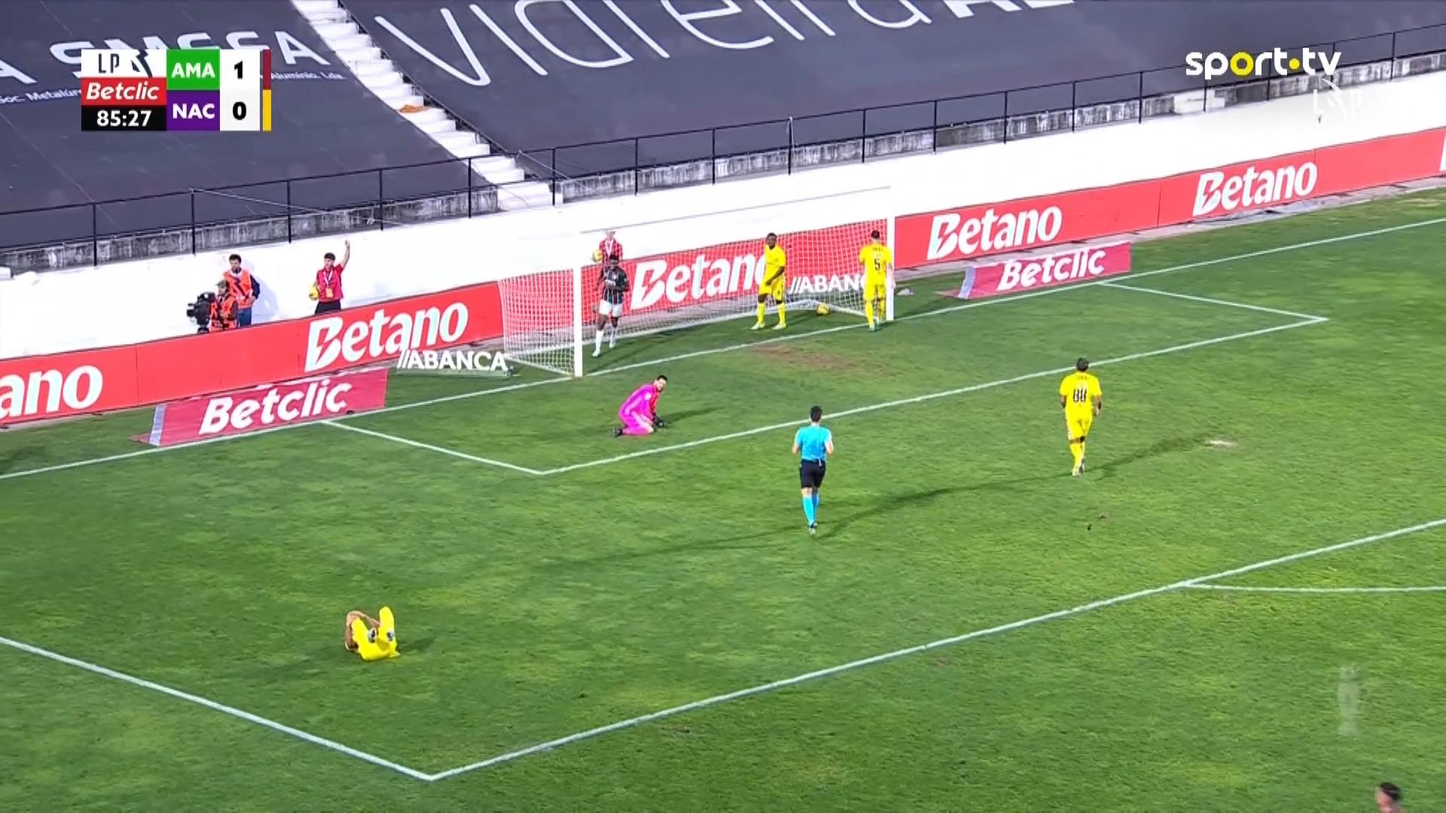ball: (816, 303, 829, 315), (591, 250, 602, 262)
goalkeeper: (612, 373, 667, 437), (343, 604, 400, 662)
player: (1057, 356, 1102, 477), (590, 254, 630, 358), (856, 229, 895, 332), (749, 232, 789, 330), (1374, 781, 1403, 811)
referee: (790, 404, 834, 536)
